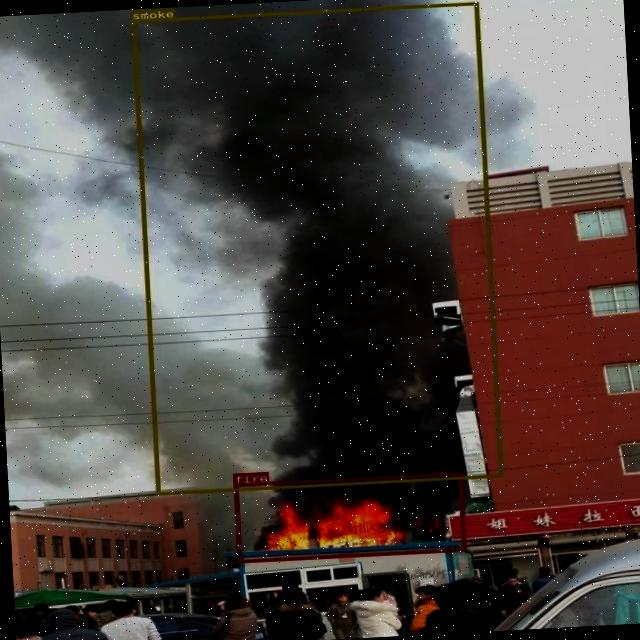fire: (232, 472, 466, 562)
smoke: (132, 2, 502, 496)
